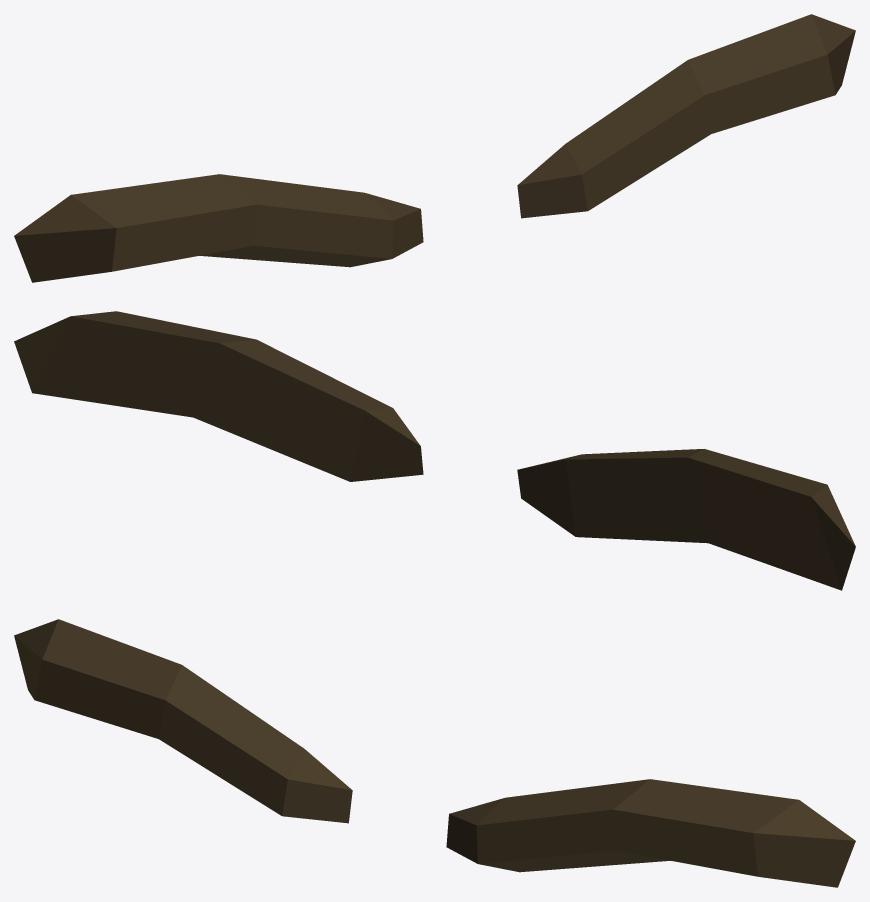
File: Chr_Eyebrow_Female_05_Static.fbx
The picture shows the model from 3 angles, top to bottom: view 1: azimuth 30°, elevation 25°; view 2: azimuth 150°, elevation 25°; view 3: azimuth 330°, elevation 25°; orthographic projection.
Visible parts, largest first — view 1: Chr_Eyebrow_Female_05_Static; view 2: Chr_Eyebrow_Female_05_Static; view 3: Chr_Eyebrow_Female_05_Static.
Boxes of the visible parts, x1=… form: Chr_Eyebrow_Female_05_Static: x1=14, y1=14, x2=855, y2=282; Chr_Eyebrow_Female_05_Static: x1=14, y1=311, x2=855, y2=590; Chr_Eyebrow_Female_05_Static: x1=14, y1=619, x2=855, y2=887.
Size of the model in its own units: 0.1722 by 0.0233 by 0.0195.
